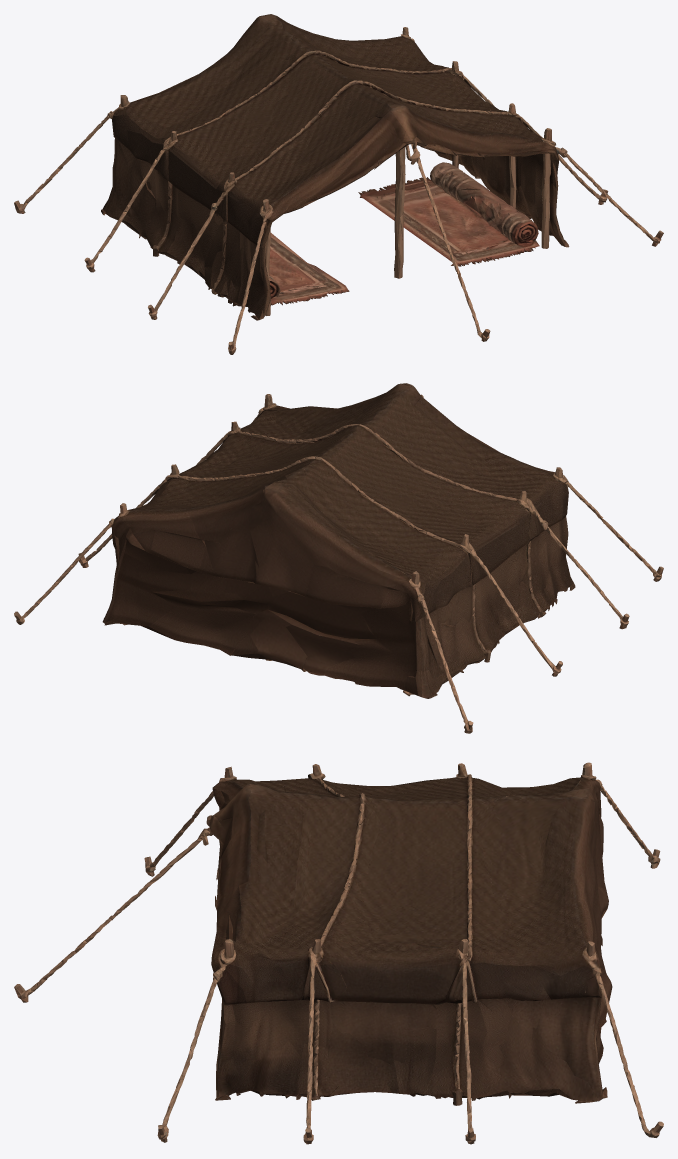
The model's file is blacktent-hero.glb.
3 views of the same model, one above another, from view 1: azimuth 30°, elevation 25°; view 2: azimuth 150°, elevation 25°; view 3: azimuth 270°, elevation 25° (orthographic). The views are drawn at different scales.
Parts seen in each view (by area): view 1: mesh_node; view 2: mesh_node; view 3: mesh_node.
Boxes of the visible parts, left/top/right/bottom form: mesh_node: left=14, top=14, right=663, bottom=354; mesh_node: left=14, top=383, right=663, bottom=733; mesh_node: left=14, top=762, right=663, bottom=1144.
Bounding box in the file's own units: 1.9 × 0.6676 × 1.8.
Materials: 1 (1 with a texture image).
